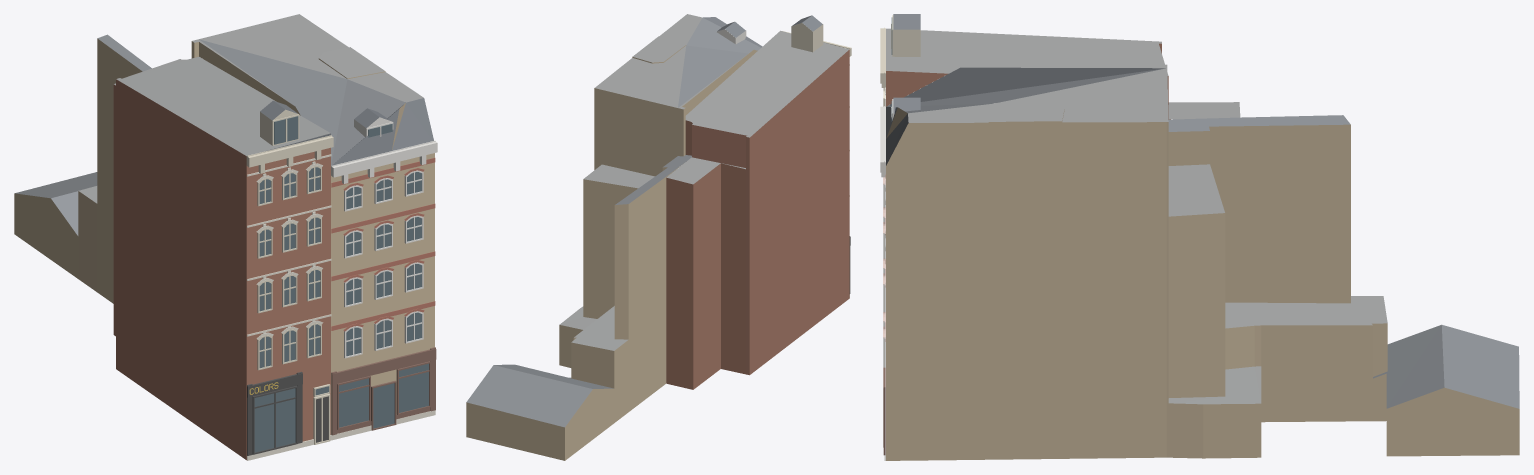
The model's file is chunk-bilder-079721-x2.glb.
3 views of the same model, side by side, from view 1: azimuth 30°, elevation 25°; view 2: azimuth 150°, elevation 25°; view 3: azimuth 270°, elevation 25° (orthographic). The views are drawn at different scales.
Parts seen in each view (by area): view 1: bilder-079721-x2; view 2: bilder-079721-x2; view 3: bilder-079721-x2.
Boxes of the visible parts, x1,y1,x2,y2 form: bilder-079721-x2: (14, 14, 437, 460); bilder-079721-x2: (466, 14, 851, 460); bilder-079721-x2: (880, 14, 1519, 460).
Size of the model in its own units: 11.64 by 19.51 by 30.63.
